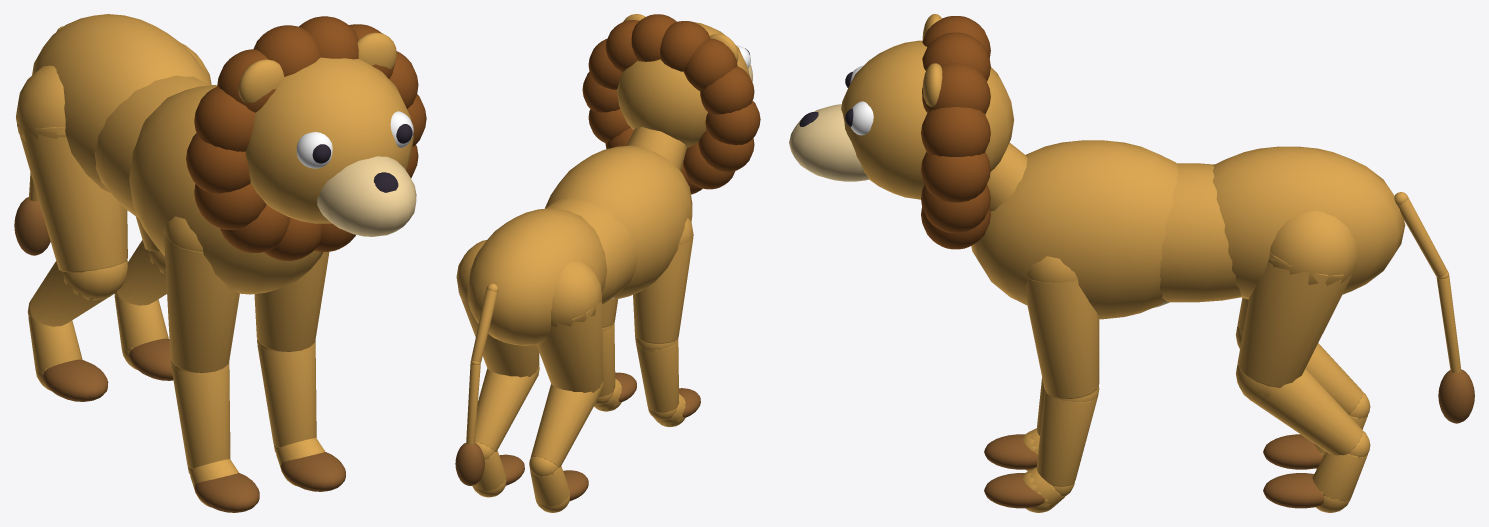
File: lion.glb
The picture shows the model from 3 angles, left to right: view 1: azimuth 30°, elevation 25°; view 2: azimuth 150°, elevation 25°; view 3: azimuth 270°, elevation 25°; orthographic projection. The views are drawn at different scales.
Parts seen in each view (by area): view 1: lion; view 2: lion; view 3: lion.
Part boxes in pixels (box(x1,y1,x2,y2)): lion: box(14, 14, 426, 512); lion: box(455, 14, 760, 512); lion: box(789, 14, 1474, 512).
Bounding box in the file's own units: 0.8782 × 1.85 × 2.47.
